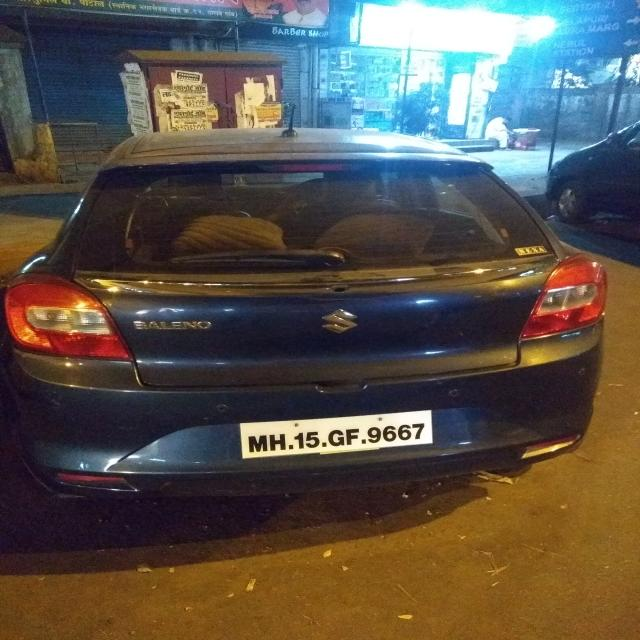Number-Plate: (241, 418, 428, 454)
